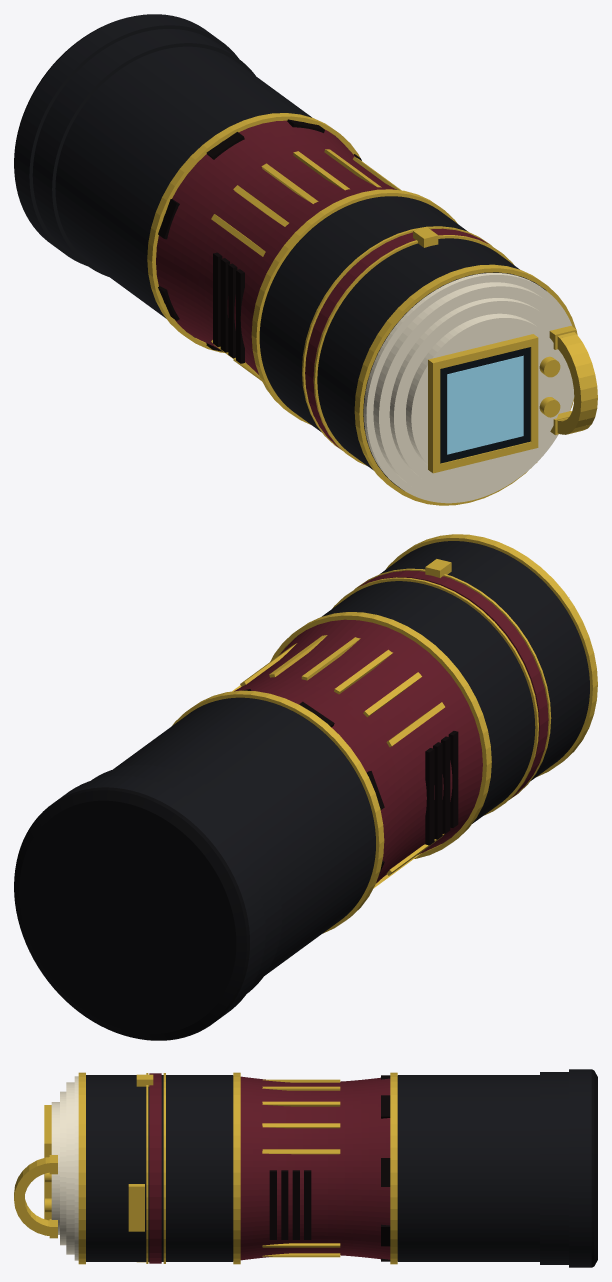
The model's file is thermox_bottle_deco.obj.
3 renders of one model, top to bottom at view 1: azimuth 30°, elevation 25°; view 2: azimuth 150°, elevation 25°; view 3: azimuth 270°, elevation 25°, orthographic. The views are drawn at different scales.
Visible parts, largest first — view 1: body_lower, body_upper, lid, body_waist, oled_screen, gold_band_3, gold_band_1, gold_band_2, stripe, oled_1_5in, hair_2, oled_bezel_b (+8 smaller); view 2: base_pad, body_lower, body_upper, body_waist, gold_band_2, stripe, gold_band_1, gold_band_3, hair_1, hair_2, exhaust_slot_rear_1, exhaust_slot_rear_2 (+2 smaller); view 3: body_lower, body_upper, body_waist, lid, stripe, gold_band_1, gold_band_2, gold_band_3, base_pad, nameplate, hair_1, exhaust_slot_front_1 (+14 smaller).
Part boxes in pixels (x1,y1,x2,y2): body_lower: (14,14,338,337); body_upper: (259,196,546,490); lid: (363,273,574,503); body_waist: (156,120,396,374); oled_screen: (447,355,523,454); gold_band_3: (354,264,577,505); gold_band_1: (147,113,360,352); gold_band_2: (251,189,457,424); stripe: (305,228,487,449); oled_1_5in: (440,347,530,463); hair_2: (313,235,513,465); oled_bezel_b: (428,334,538,370); base_pad: (14,787,249,1040); body_lower: (55,697,375,1020); body_upper: (322,541,589,843); body_waist: (234,619,482,883); gold_band_2: (270,612,491,858); stripe: (358,570,548,799); gold_band_1: (172,690,384,933); gold_band_3: (385,534,597,776); hair_1: (332,577,538,815); hair_2: (354,568,551,800); exhaust_slot_rear_1: (425,748,434,845); exhaust_slot_rear_2: (433,742,442,839); body_lower: (397,1069,591,1267); body_upper: (86,1075,233,1261); body_waist: (240,1076,390,1260); lid: (51,1076,78,1260); stripe: (149,1073,161,1263); gold_band_1: (390,1072,397,1264); gold_band_2: (233,1072,240,1264); gold_band_3: (78,1072,85,1264); base_pad: (591,1069,597,1267); nameplate: (128,1184,144,1231); hair_1: (163,1073,165,1263); exhaust_slot_front_1: (304,1170,311,1239).
Size of the model in its own units: 95.6 by 97 by 281.
